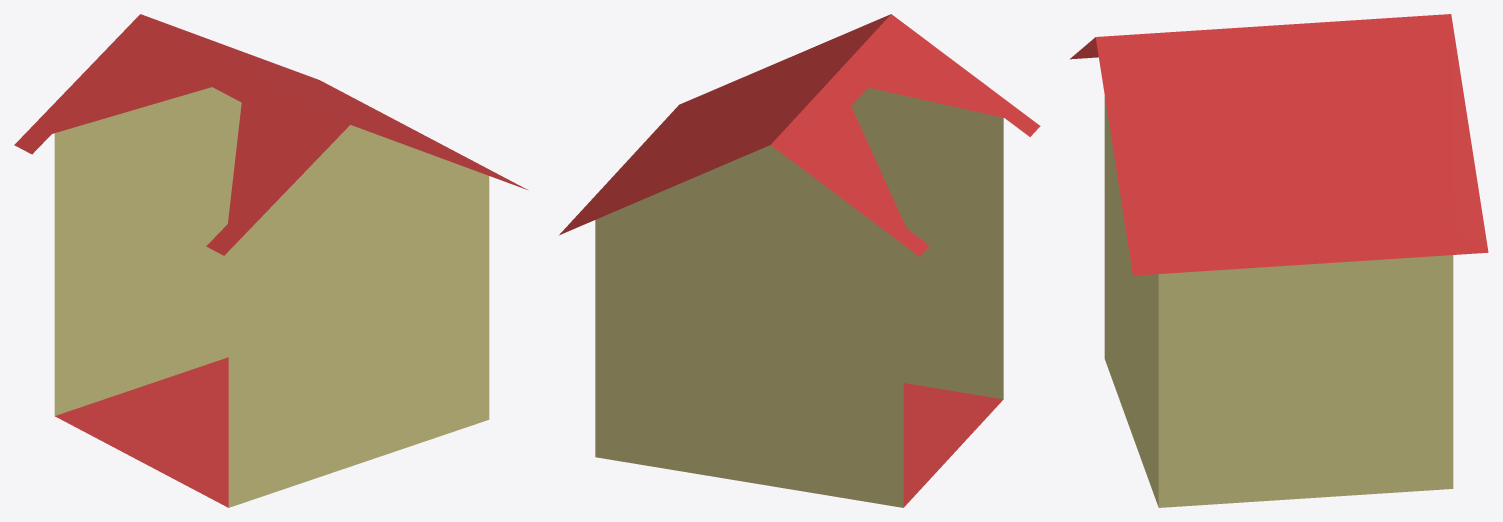
3 renders of one model, left to right at view 1: azimuth 30°, elevation 25°; view 2: azimuth 150°, elevation 25°; view 3: azimuth 270°, elevation 25°, orthographic. The views are drawn at different scales.
Size of the model in its own units: 11.42 by 10.2 by 10.29.
